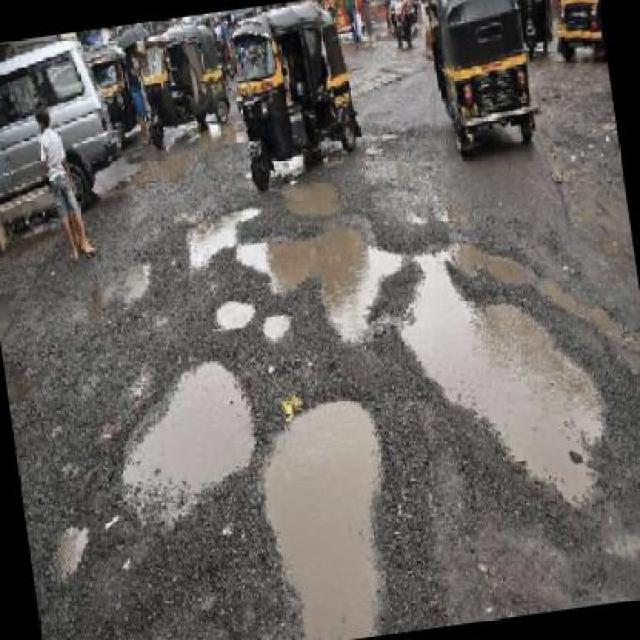pothole1: (386, 205, 625, 527), (252, 384, 411, 638), (105, 348, 268, 528), (226, 206, 417, 356), (180, 197, 268, 269), (42, 514, 96, 580), (279, 171, 346, 224), (209, 289, 257, 331), (260, 307, 295, 339)
